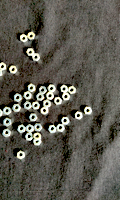nut: (17, 125, 26, 134), (3, 118, 12, 127), (17, 151, 25, 160), (3, 129, 11, 138), (25, 133, 34, 141), (33, 133, 42, 141), (61, 117, 70, 125), (34, 124, 43, 132), (29, 114, 38, 122), (84, 107, 93, 115), (54, 97, 63, 105), (23, 92, 32, 100), (36, 93, 45, 101), (28, 84, 36, 93), (39, 86, 47, 95), (68, 86, 77, 94), (32, 53, 40, 62), (20, 34, 28, 43), (49, 125, 57, 133), (57, 124, 65, 132), (26, 125, 34, 133), (75, 112, 83, 120), (41, 107, 49, 115), (3, 107, 11, 115), (24, 102, 32, 110), (32, 102, 40, 110), (43, 100, 51, 108), (14, 94, 22, 102), (46, 92, 54, 100), (62, 93, 70, 101), (48, 85, 56, 93), (61, 85, 69, 93), (9, 66, 17, 74), (28, 32, 36, 40), (12, 105, 21, 112), (26, 49, 35, 56), (33, 140, 42, 146), (0, 63, 6, 71), (0, 109, 3, 117), (0, 69, 2, 78)
